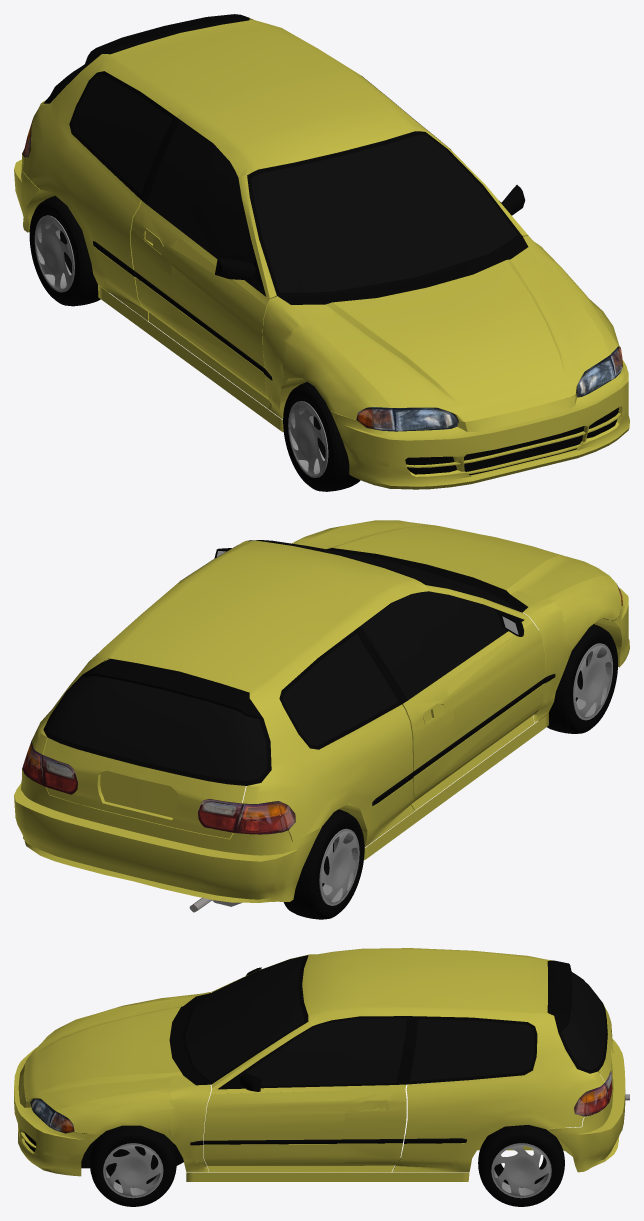
File: civic.glb
The picture shows the model from 3 angles, top to bottom: view 1: azimuth 30°, elevation 25°; view 2: azimuth 150°, elevation 25°; view 3: azimuth 270°, elevation 25°; orthographic projection. The views are drawn at different scales.
Parts seen in each view (by area): view 1: body, door_fr, wheel1, wheel3, door_fl, wheel0; view 2: body, door_fr, wheel3, wheel1, wheel2; view 3: body, door_fl, wheel0, wheel2, door_fr.
Boxes of the visible parts, box(x1,y1,x2,y2) form: body: box(14, 14, 629, 489); door_fr: box(171, 154, 335, 404); wheel1: box(283, 382, 458, 491); wheel3: box(22, 119, 100, 306); door_fl: box(422, 126, 559, 268); wheel0: box(575, 346, 622, 397); body: box(14, 520, 629, 902); door_fr: box(403, 583, 569, 774); wheel3: box(189, 799, 364, 919); wheel1: box(535, 585, 622, 733); wheel2: box(22, 741, 77, 794); body: box(14, 948, 625, 1181); door_fl: box(170, 1018, 344, 1163); wheel0: box(30, 1098, 183, 1206); wheel2: box(478, 1071, 612, 1206); door_fr: box(170, 954, 308, 1008).
Size of the model in its own units: 1.81 by 1.32 by 4.07.
Materials: 9 (1 with a texture image).
